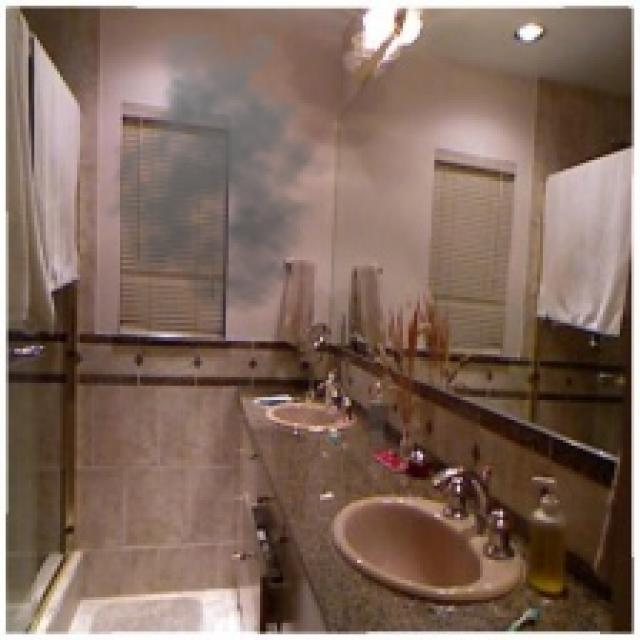Smoke: (103, 34, 343, 314)
